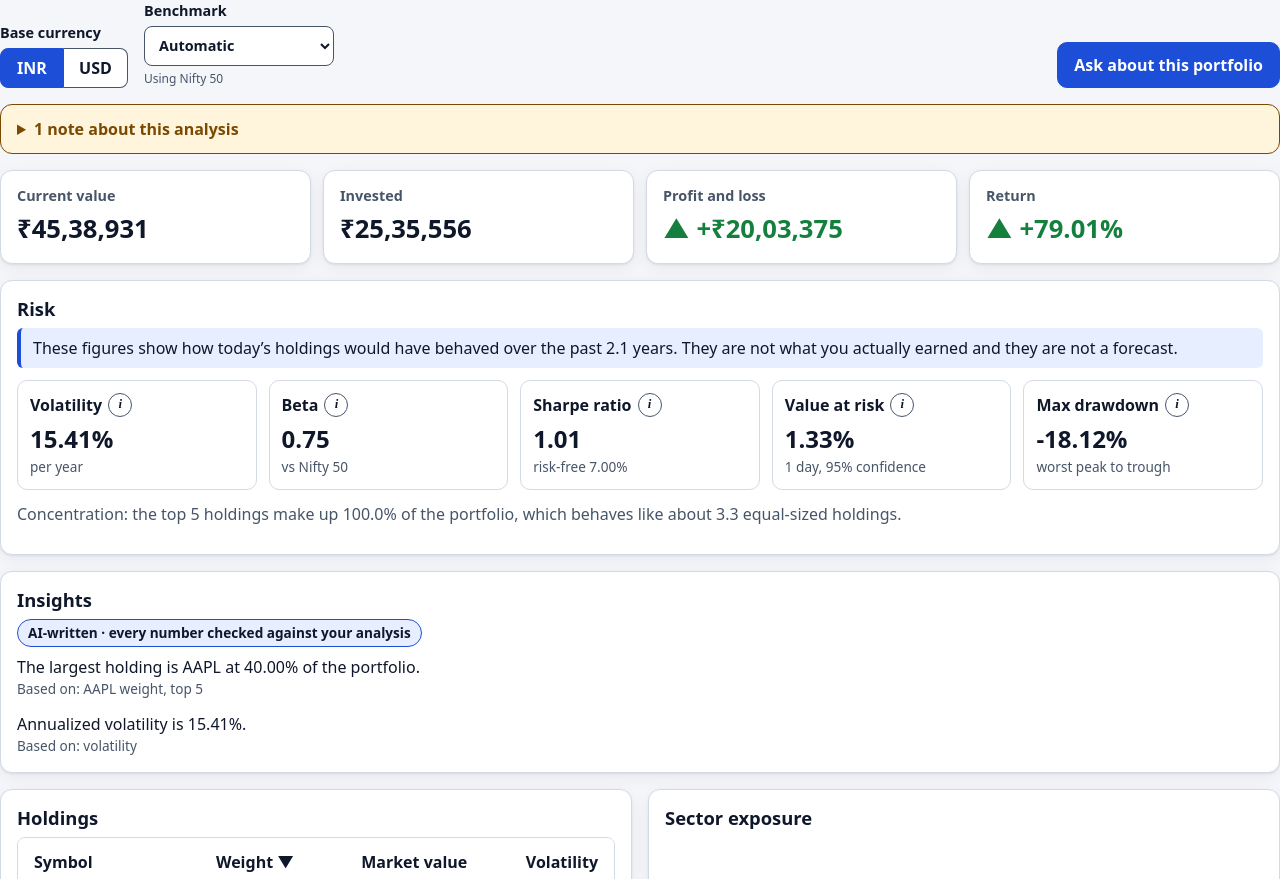
Test: dashboard with a mocked analysis result › lists the analysis warnings
Click the heading "1 note about this analysis".
click(136, 129)  # box [34, 118, 239, 140]
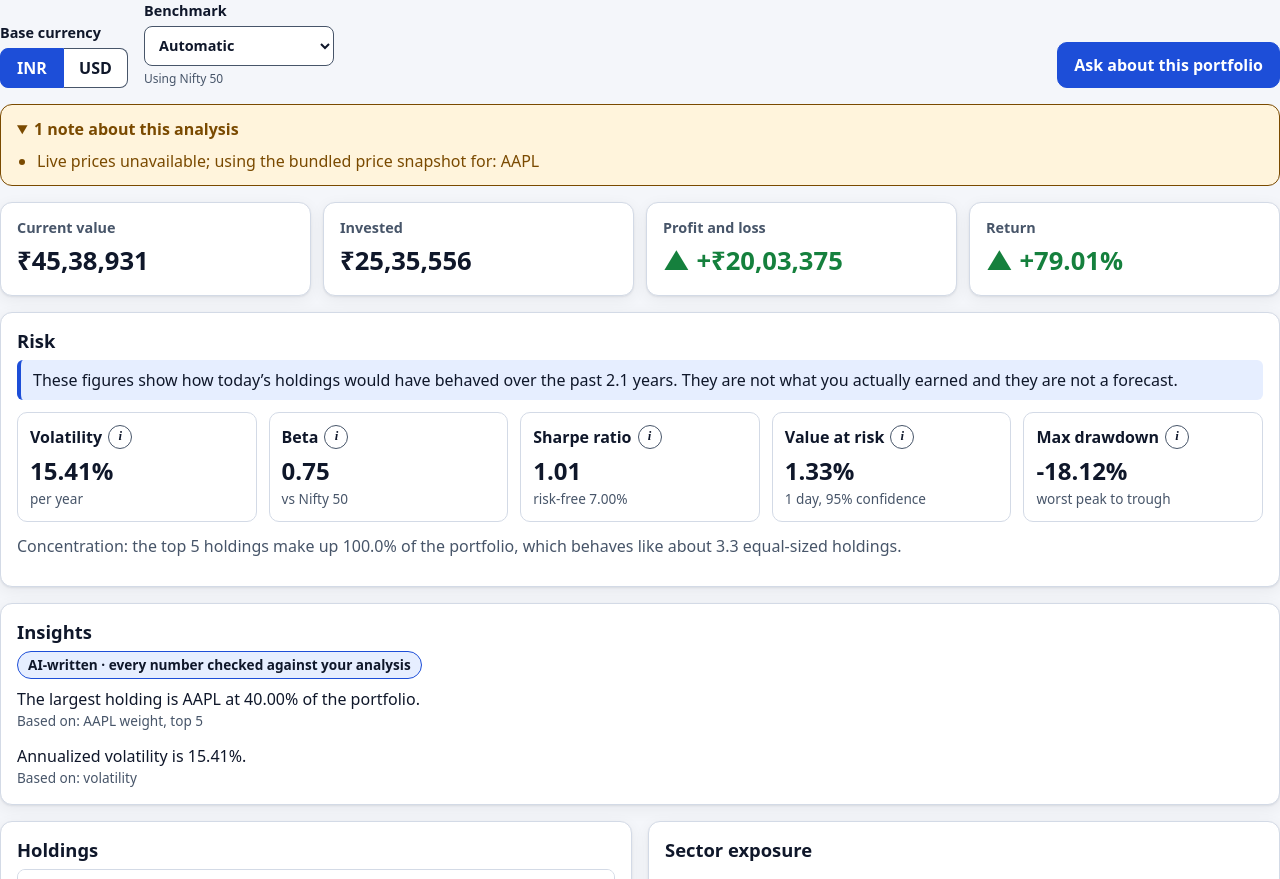
Check: the list item "using the bundled price snapshot for: AAPL" is shown, box [37, 150, 539, 172]
